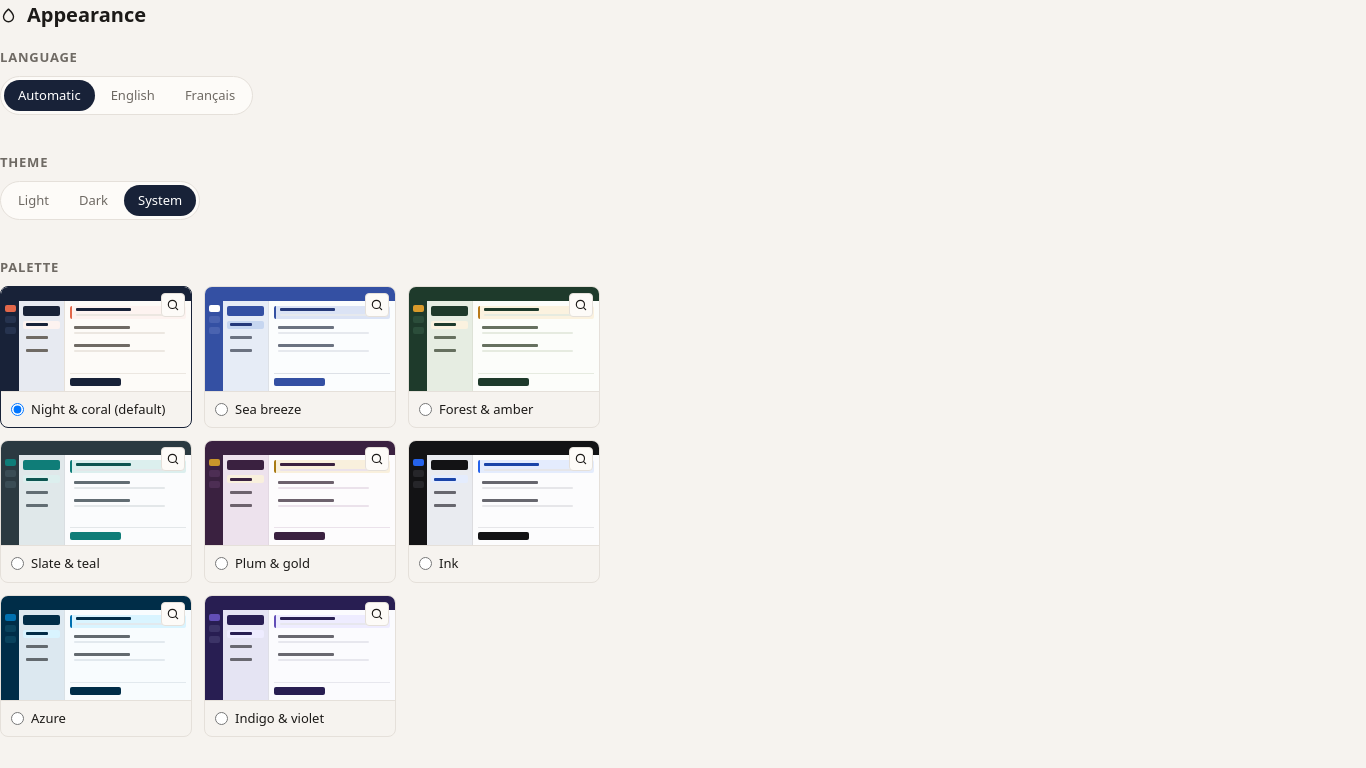
Test: AppearancePage — the enlarged preview › does not select the palette it enlarges
Click the button named "Enlarge the Sea breeze preview" at (377, 304), box [365,292,389,316]
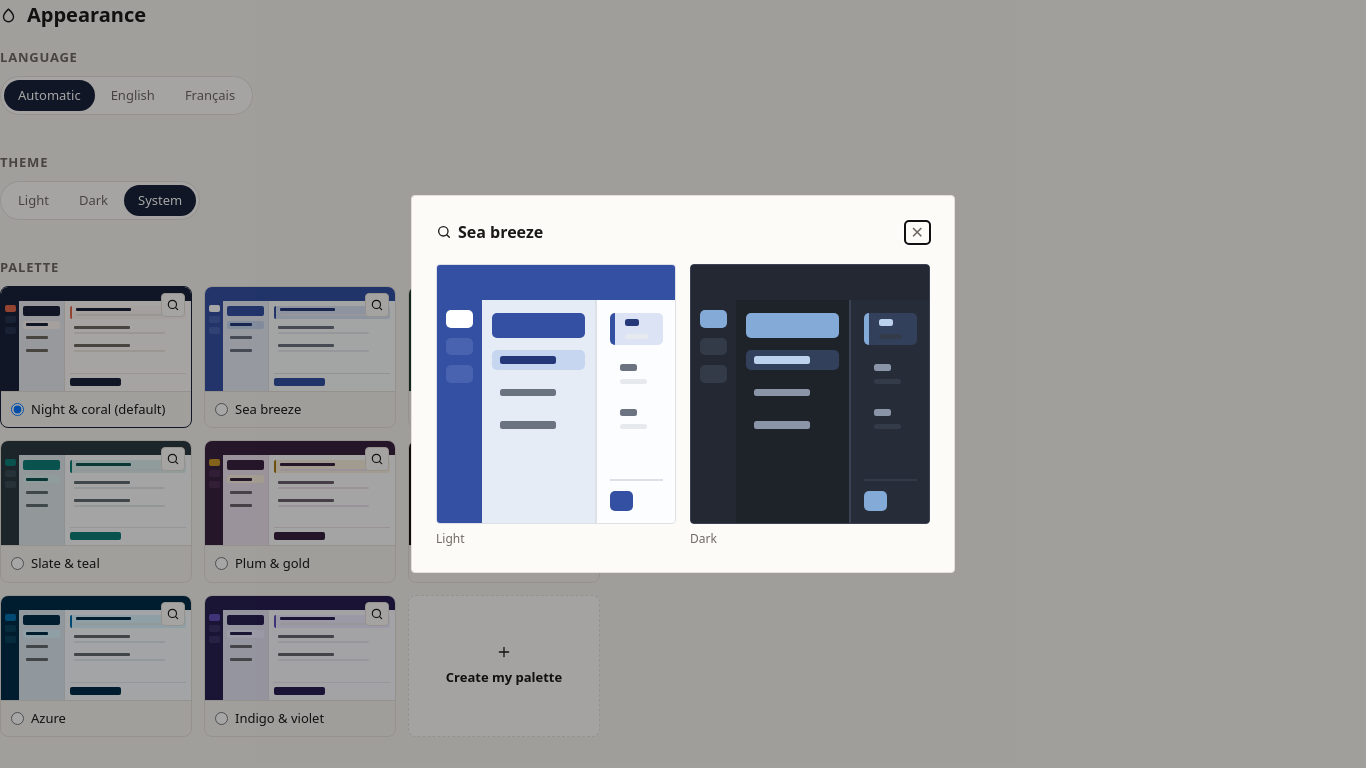
Expected: the radio button labelled "Night & coral (default)" is checked, [11,403,24,416]
Expected: the element with class "modal-title" reads "Sea breeze", [458,221,543,243]
